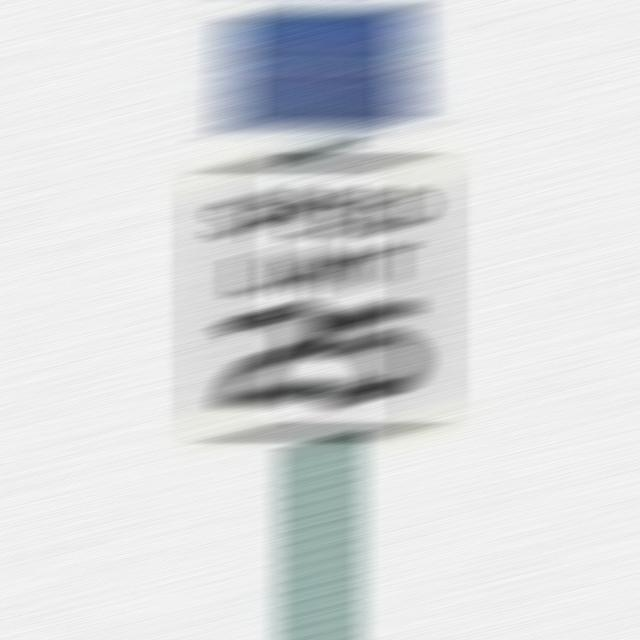speedLimit25: (189, 146, 443, 442)
